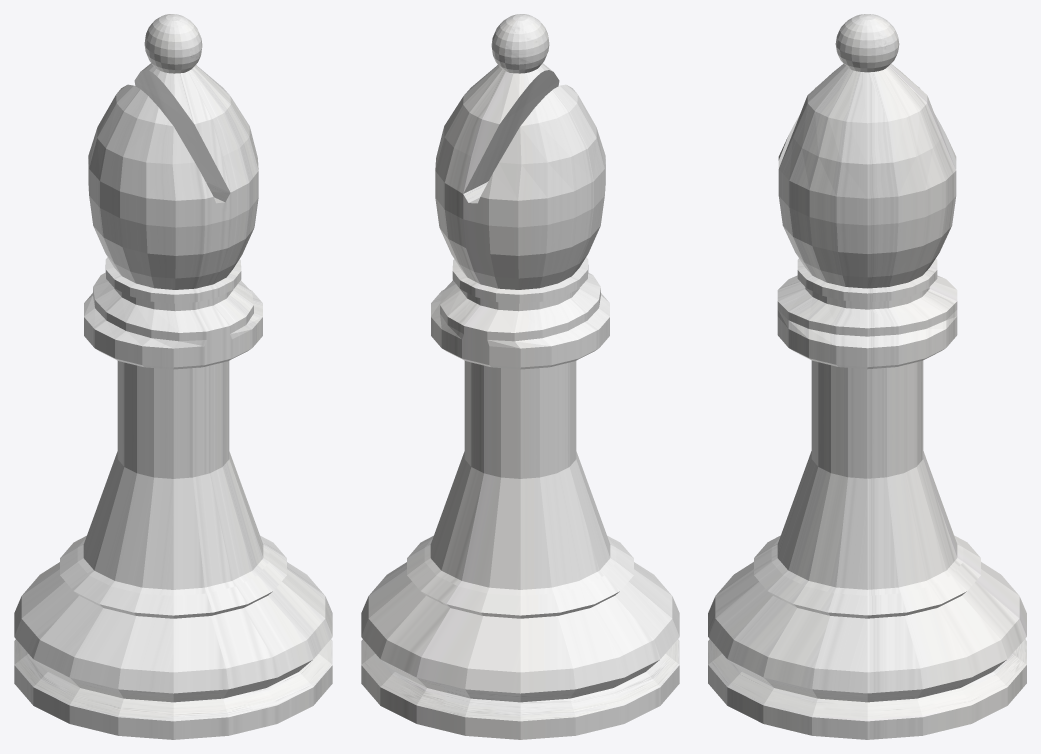
The model's file is w_bishop_1.obj.
3 views of the same model, side by side, from view 1: azimuth 30°, elevation 25°; view 2: azimuth 150°, elevation 25°; view 3: azimuth 270°, elevation 25° (orthographic).
Bounding box in the file's own units: 0.1443 × 0.3286 × 0.1422.
Materials: 1 (1 with a texture image).
